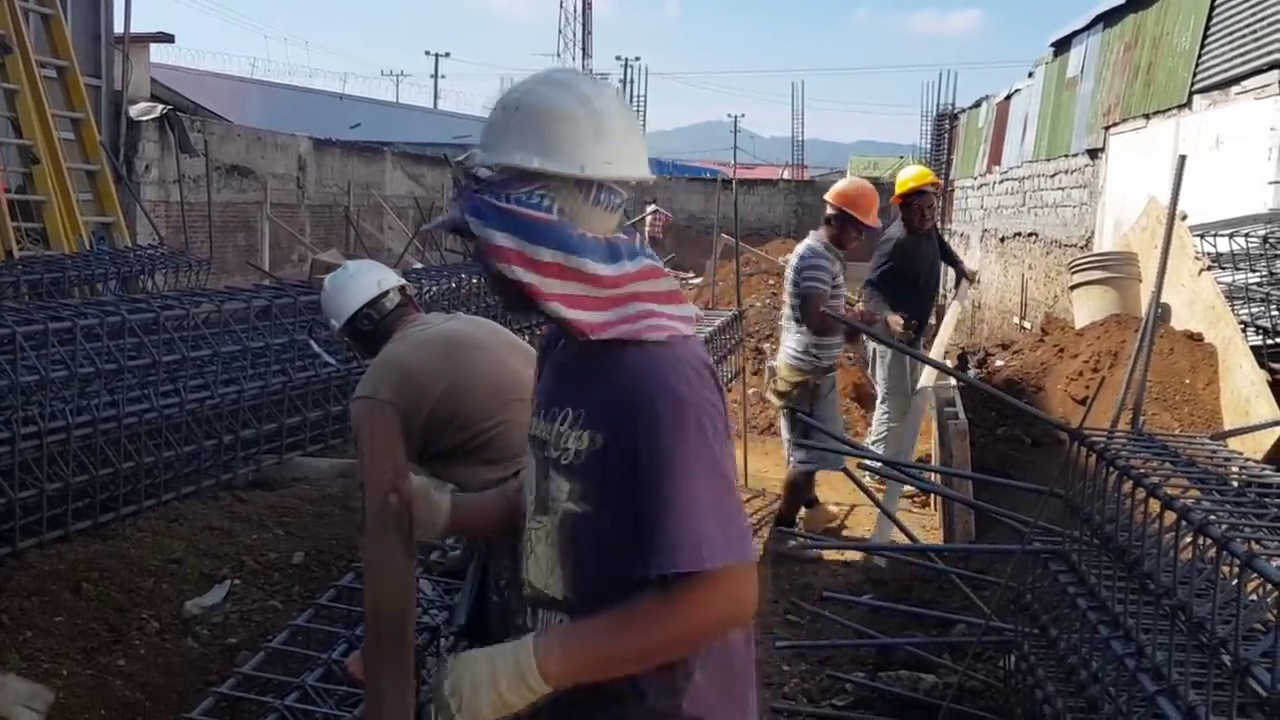helmet: (463, 69, 663, 204), (308, 261, 409, 348), (824, 175, 885, 230), (889, 163, 945, 204)
helmet-off: (645, 199, 658, 209)
helmet-on: (461, 64, 672, 342), (315, 255, 428, 380), (826, 178, 890, 262), (890, 163, 948, 244)
person: (445, 43, 749, 720), (307, 248, 551, 719), (770, 163, 905, 542), (858, 152, 973, 514), (639, 197, 670, 257)
